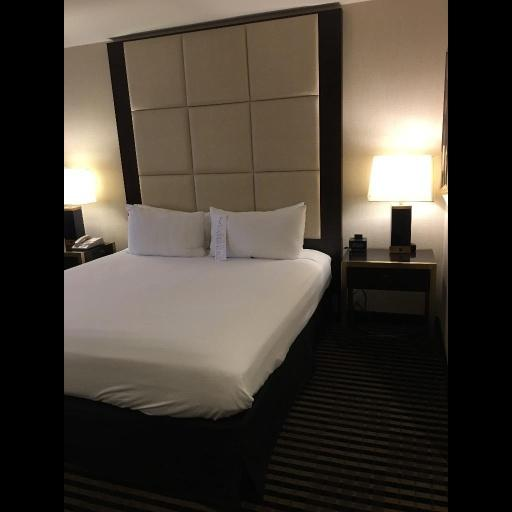clean_bed: (59, 6, 344, 458)
organised_pillow: (127, 200, 305, 259)
